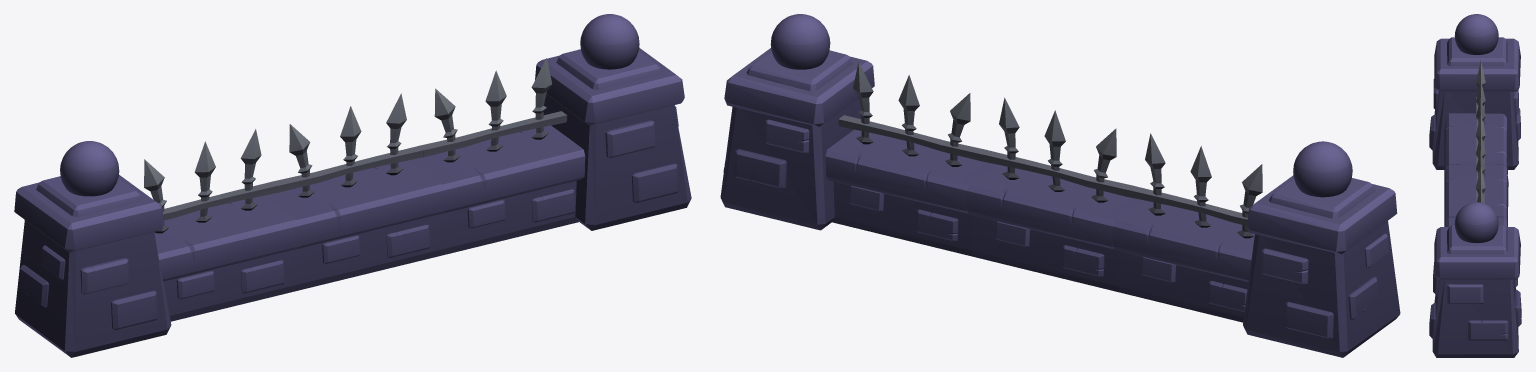
File: fence_large.glb
3 views of the same model, side by side, from view 1: azimuth 30°, elevation 25°; view 2: azimuth 150°, elevation 25°; view 3: azimuth 270°, elevation 25° (orthographic). The views are drawn at different scales.
Visible parts, largest first — view 1: fence_large; view 2: fence_large; view 3: fence_large.
Boxes of the visible parts, x1,y1,x2,y2 form: fence_large: [14, 14, 691, 357]; fence_large: [720, 14, 1400, 357]; fence_large: [1429, 14, 1521, 357].
Bounding box in the file's own units: 10.37 × 2.88 × 1.77.
1 material, 1 textured.
